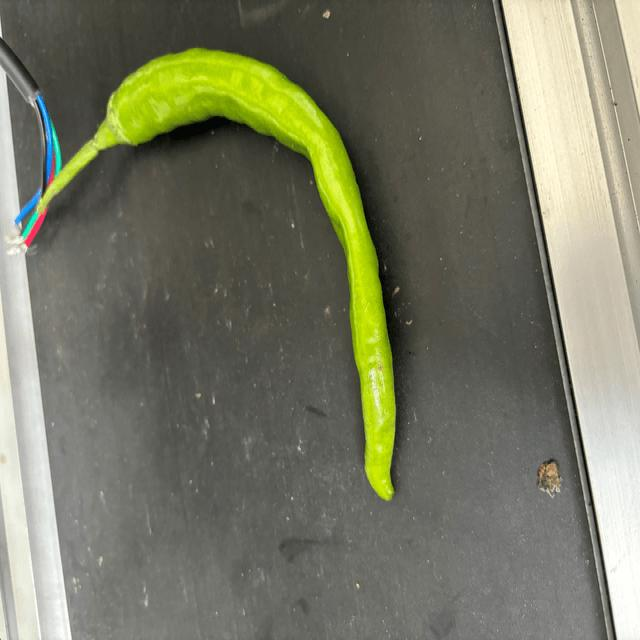chili: (102, 45, 397, 508)
